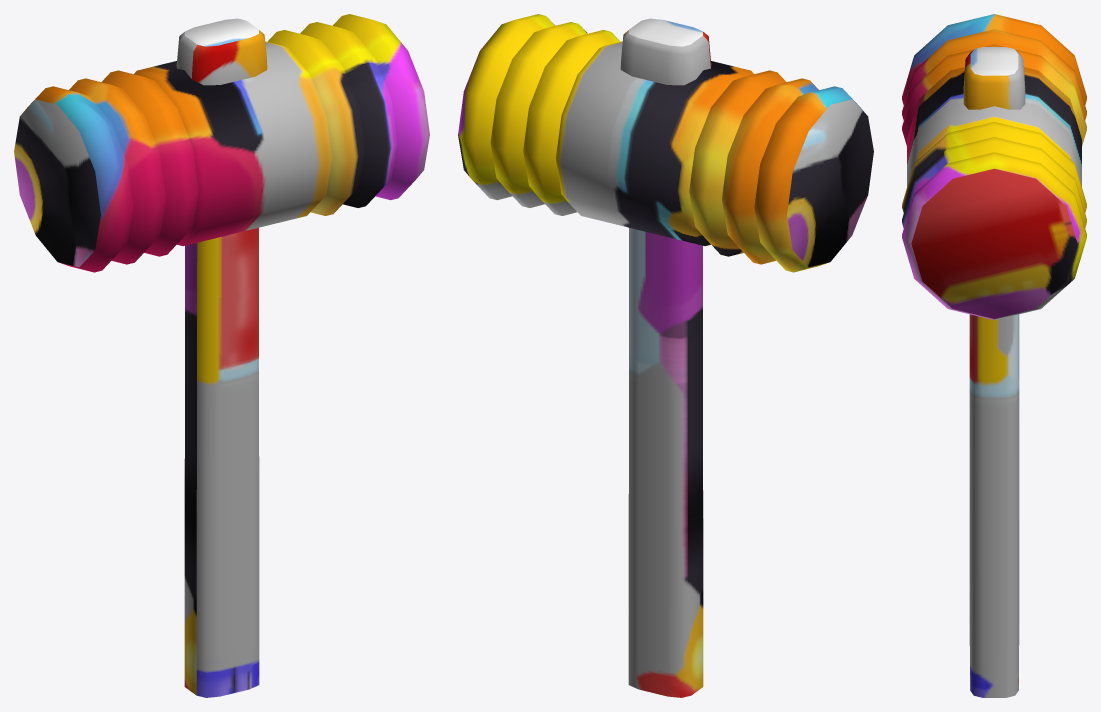
File: dif6.fbx
3 views of the same model, side by side, from view 1: azimuth 30°, elevation 25°; view 2: azimuth 150°, elevation 25°; view 3: azimuth 270°, elevation 25° (orthographic). The views are drawn at different scales.
Parts seen in each view (by area): view 1: Cube.041; view 2: Cube.041; view 3: Cube.041.
Part boxes in pixels (box(x1,y1,x2,y2)): Cube.041: box(14, 14, 429, 697); Cube.041: box(458, 14, 873, 697); Cube.041: box(902, 14, 1086, 697).
Size of the model in its own units: 547 by 1035 by 279.
